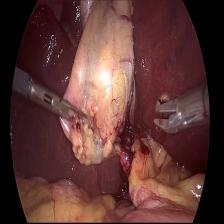Clipper: (152, 82, 203, 142)
Grasper: (25, 77, 96, 138)
